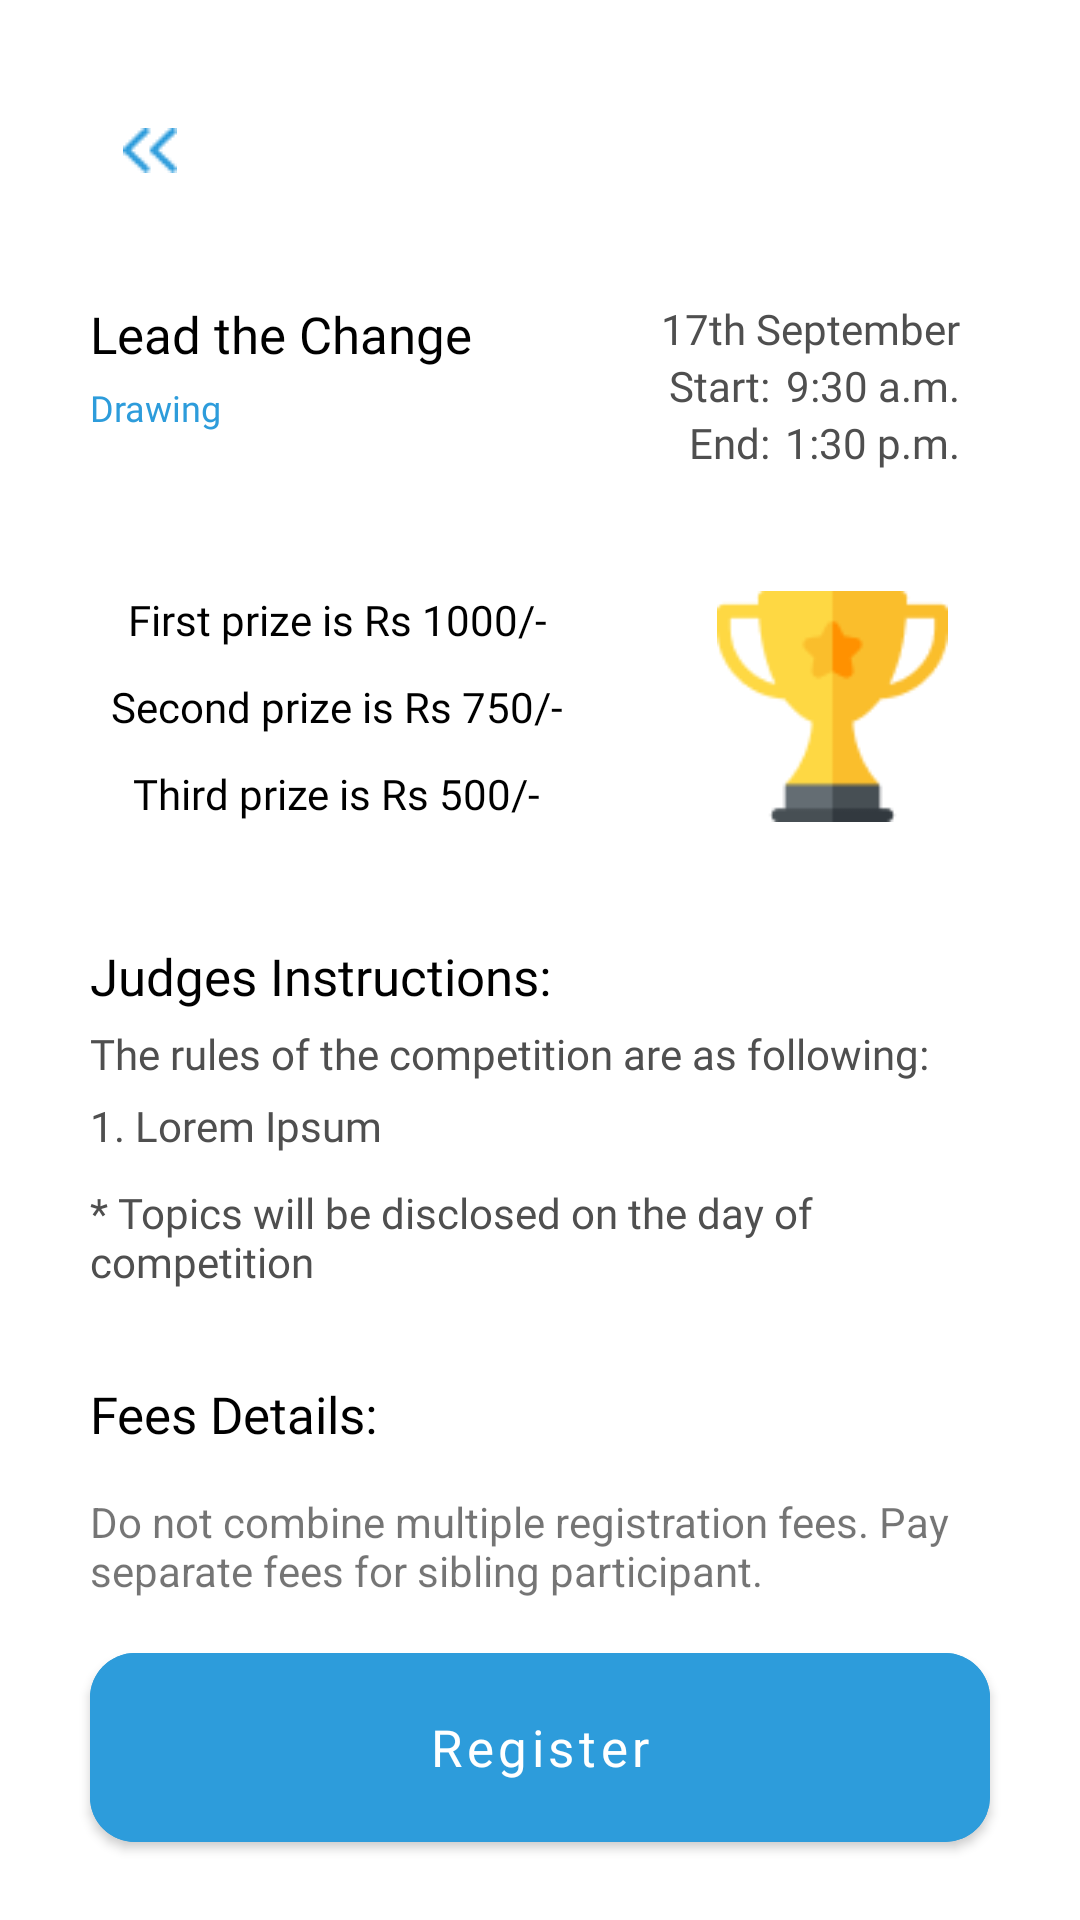

Locate icon controls on the screen. Image size 1080*1920, boxes as (x1, y1, x2, y2).
back: (123, 128, 177, 173)
trophy: (717, 591, 948, 822)
